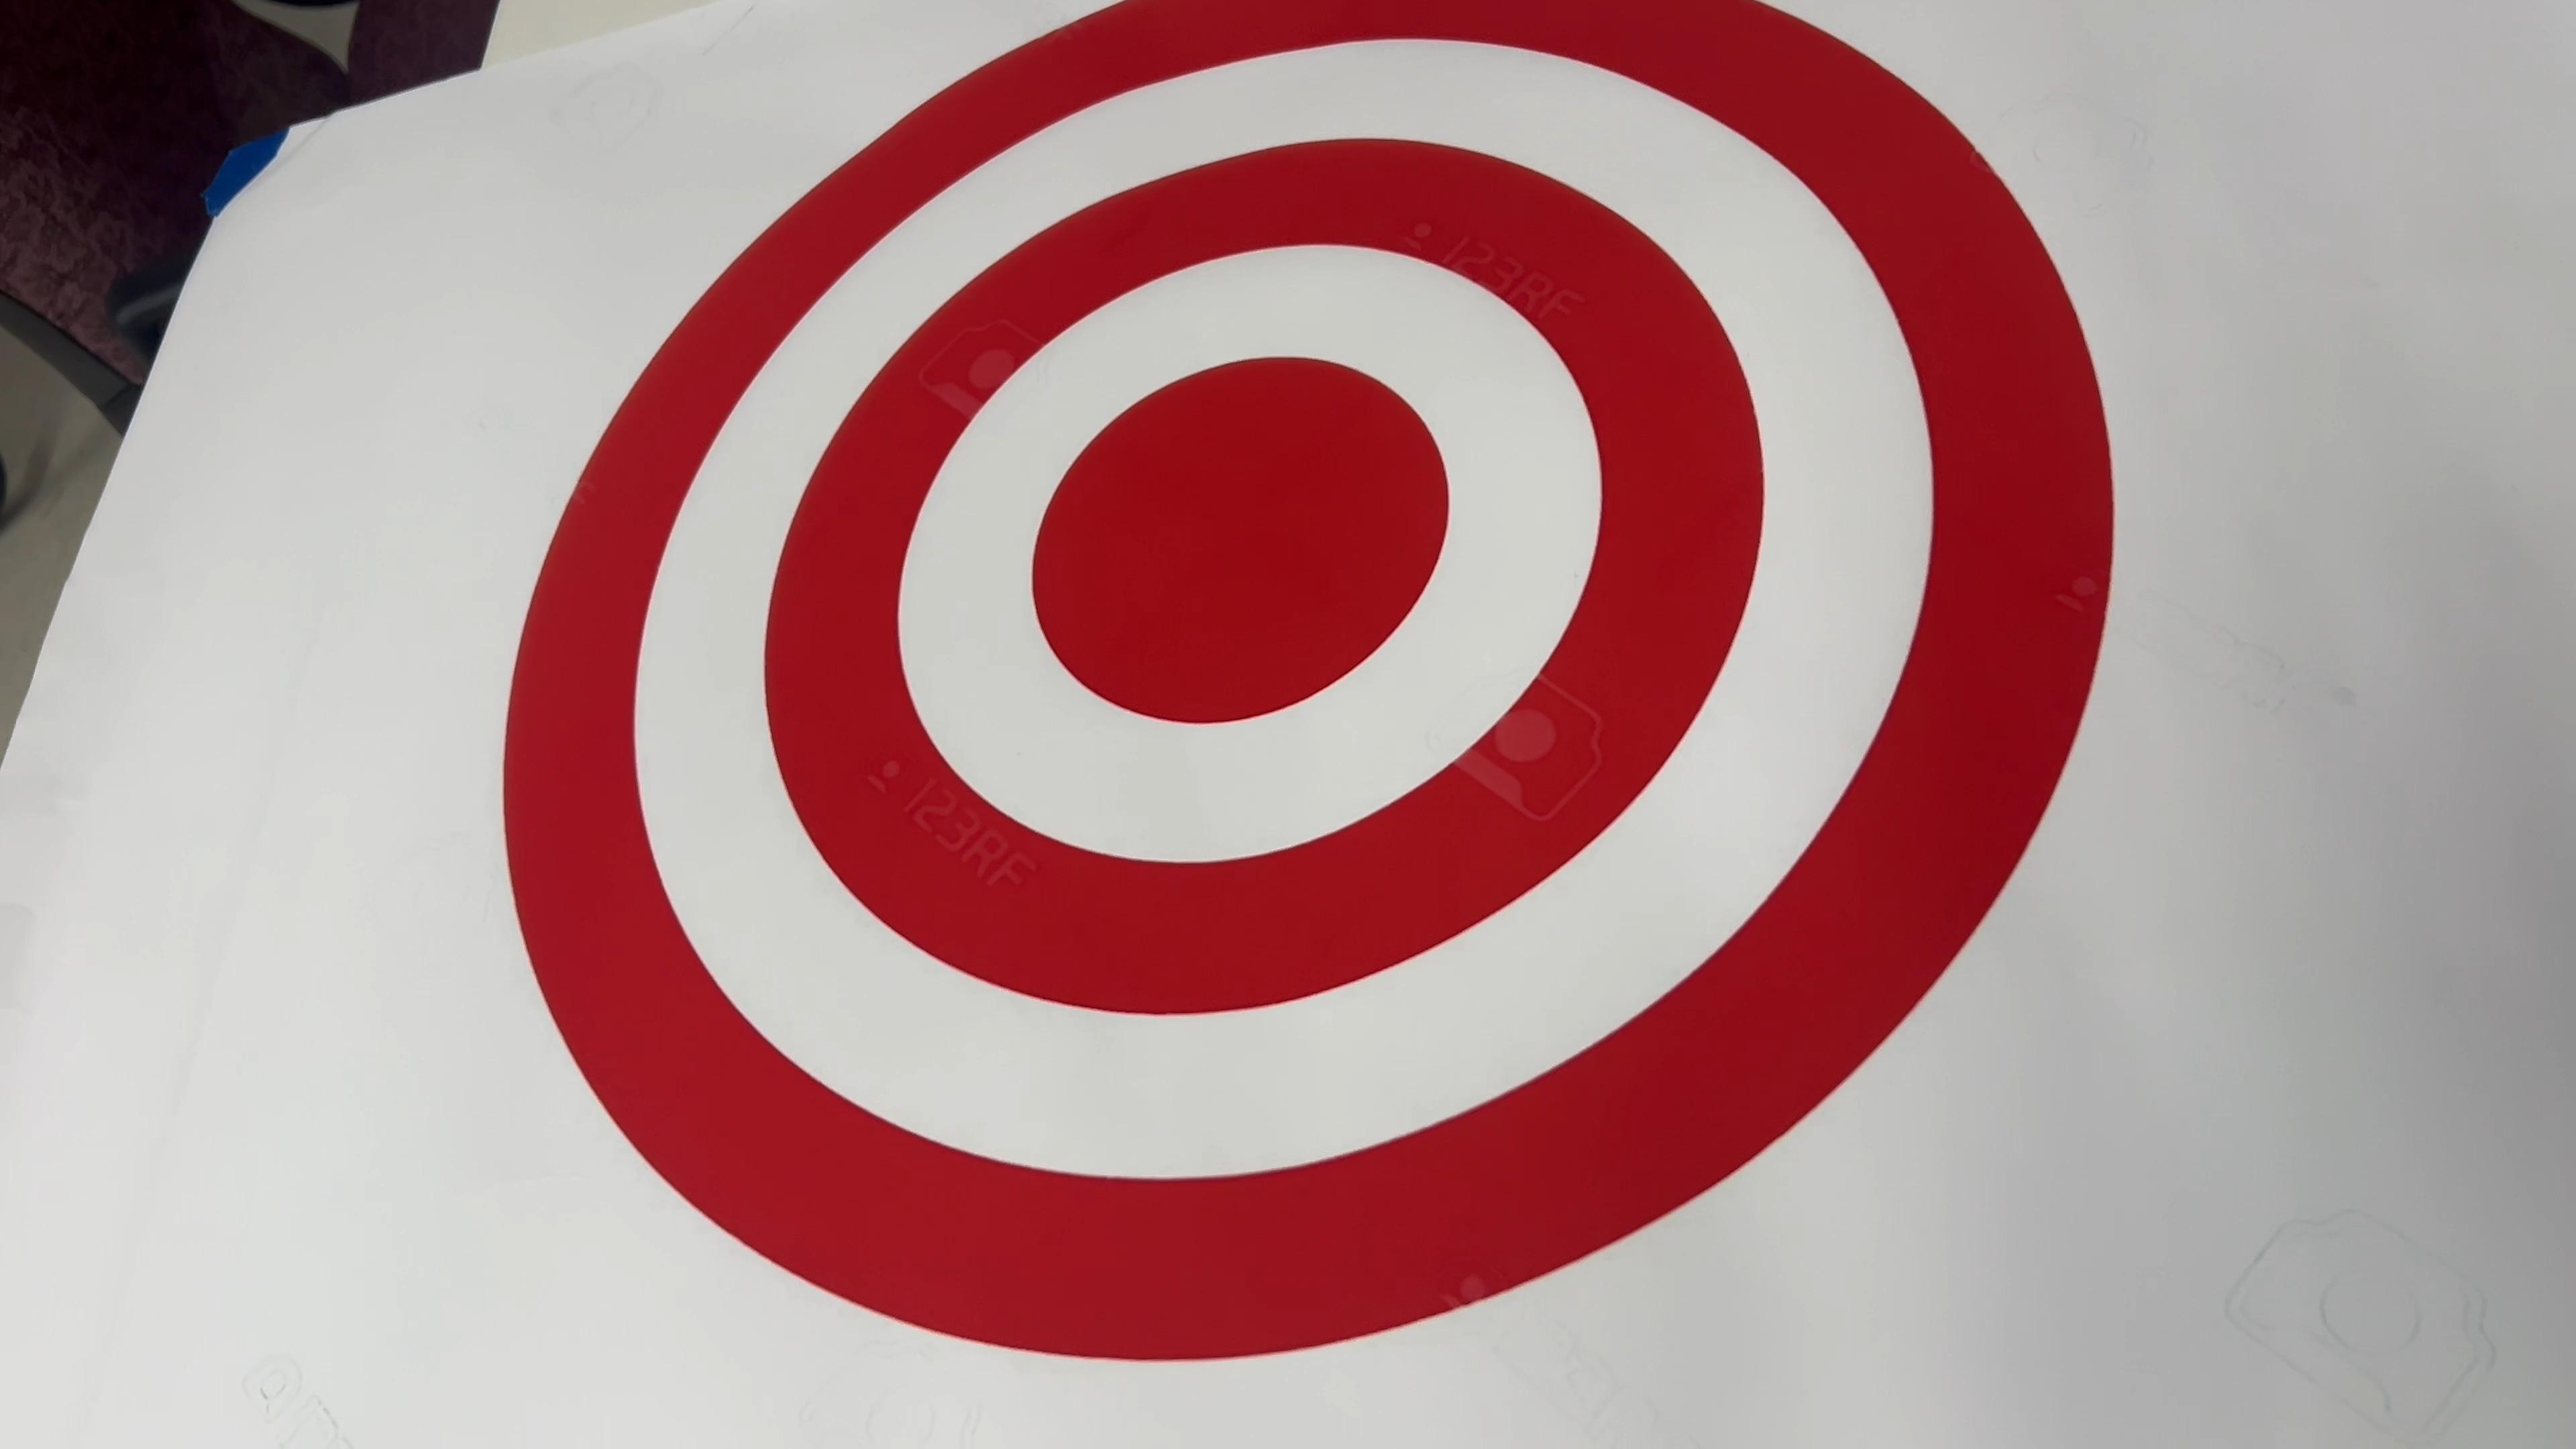target_red: (407, 0, 2128, 1449)
